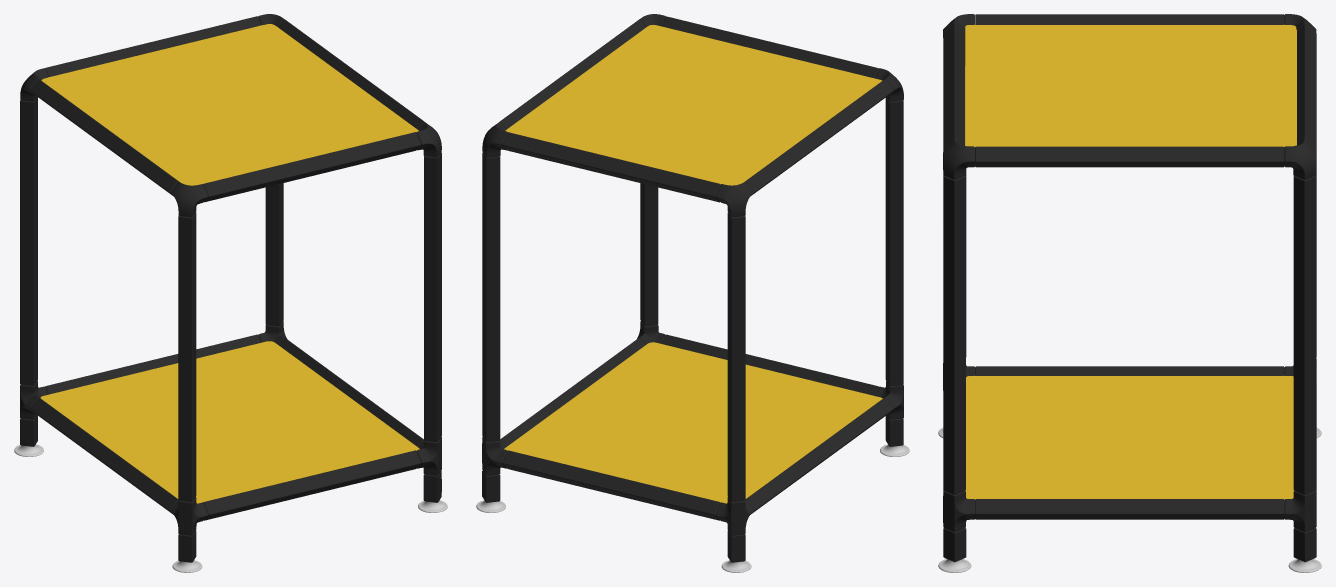
3 views of the same model, side by side, from view 1: azimuth 30°, elevation 25°; view 2: azimuth 150°, elevation 25°; view 3: azimuth 270°, elevation 25° (orthographic). The views are drawn at different scales.
Parts seen in each view (by area): view 1: 329x374x420; view 2: 329x374x420; view 3: 329x374x420.
Part boxes in pixels (bbox=[...]): 329x374x420: bbox=[14, 14, 447, 572]; 329x374x420: bbox=[476, 14, 909, 572]; 329x374x420: bbox=[938, 14, 1321, 572].
Bounding box in the file's own units: 0.4189 × 0.5593 × 0.4632.
